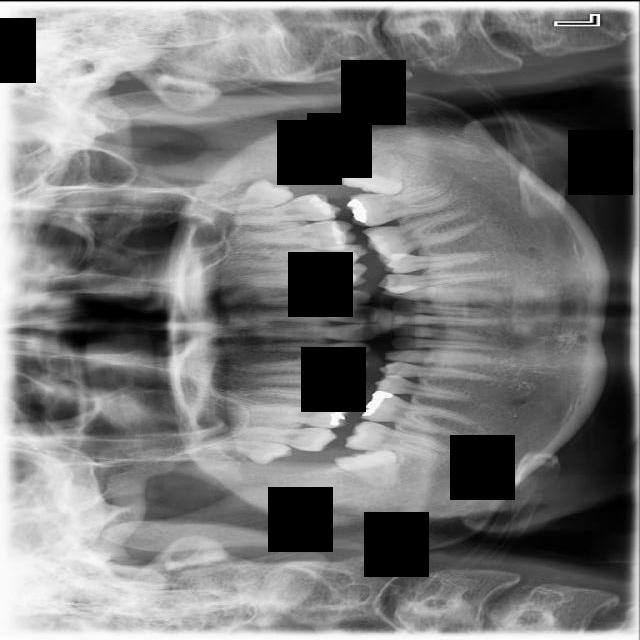3M ESPE Implant: (202, 433, 294, 467)
52: (355, 383, 394, 420), (345, 195, 371, 225), (305, 192, 334, 216), (327, 217, 350, 246), (327, 404, 346, 426)
73: (588, 66, 593, 70)
BioHorizons Implant: (228, 191, 342, 224)
BioLife Implant: (203, 173, 296, 218)
Biomet 3i Implant: (342, 146, 406, 196)
Blue Sky Bio Implant: (343, 179, 456, 230)
Caries: (228, 427, 337, 451)
Implant: (344, 417, 450, 461)
Keystone Dental Implant: (333, 445, 399, 489)
